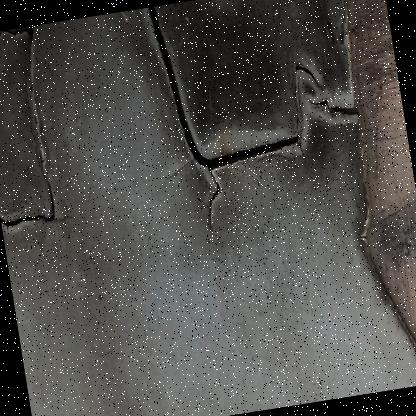Crack: (135, 0, 415, 415), (0, 22, 92, 275)
